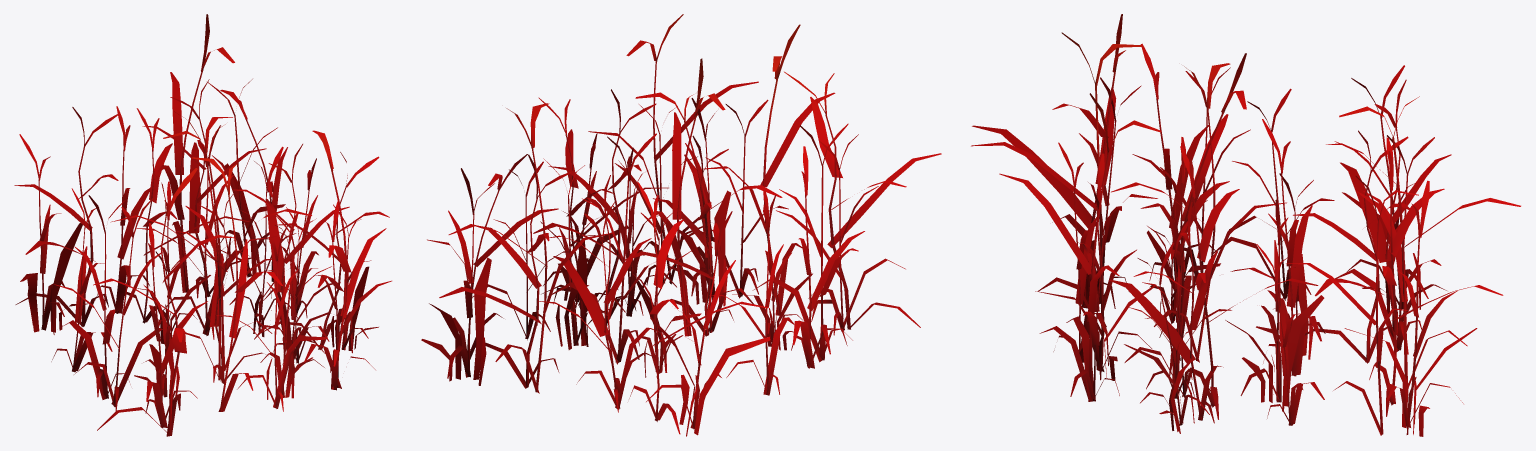
Rendered from SM_Oat_2.fbx.
The picture shows the model from 3 angles, left to right: view 1: azimuth 30°, elevation 25°; view 2: azimuth 150°, elevation 25°; view 3: azimuth 270°, elevation 25°; orthographic projection. The views are drawn at different scales.
Parts seen in each view (by area): view 1: SM_Oat_2; view 2: SM_Oat_2; view 3: SM_Oat_2.
Part boxes in pixels (x1=…): SM_Oat_2: x1=14, y1=14, x2=391, y2=436; SM_Oat_2: x1=421, y1=14, x2=941, y2=436; SM_Oat_2: x1=971, y1=14, x2=1520, y2=436.
Size of the model in its own units: 1.25 by 0.9896 by 1.57.
